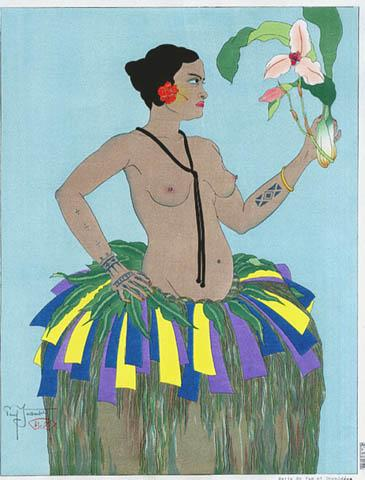person: (54, 38, 330, 473)
